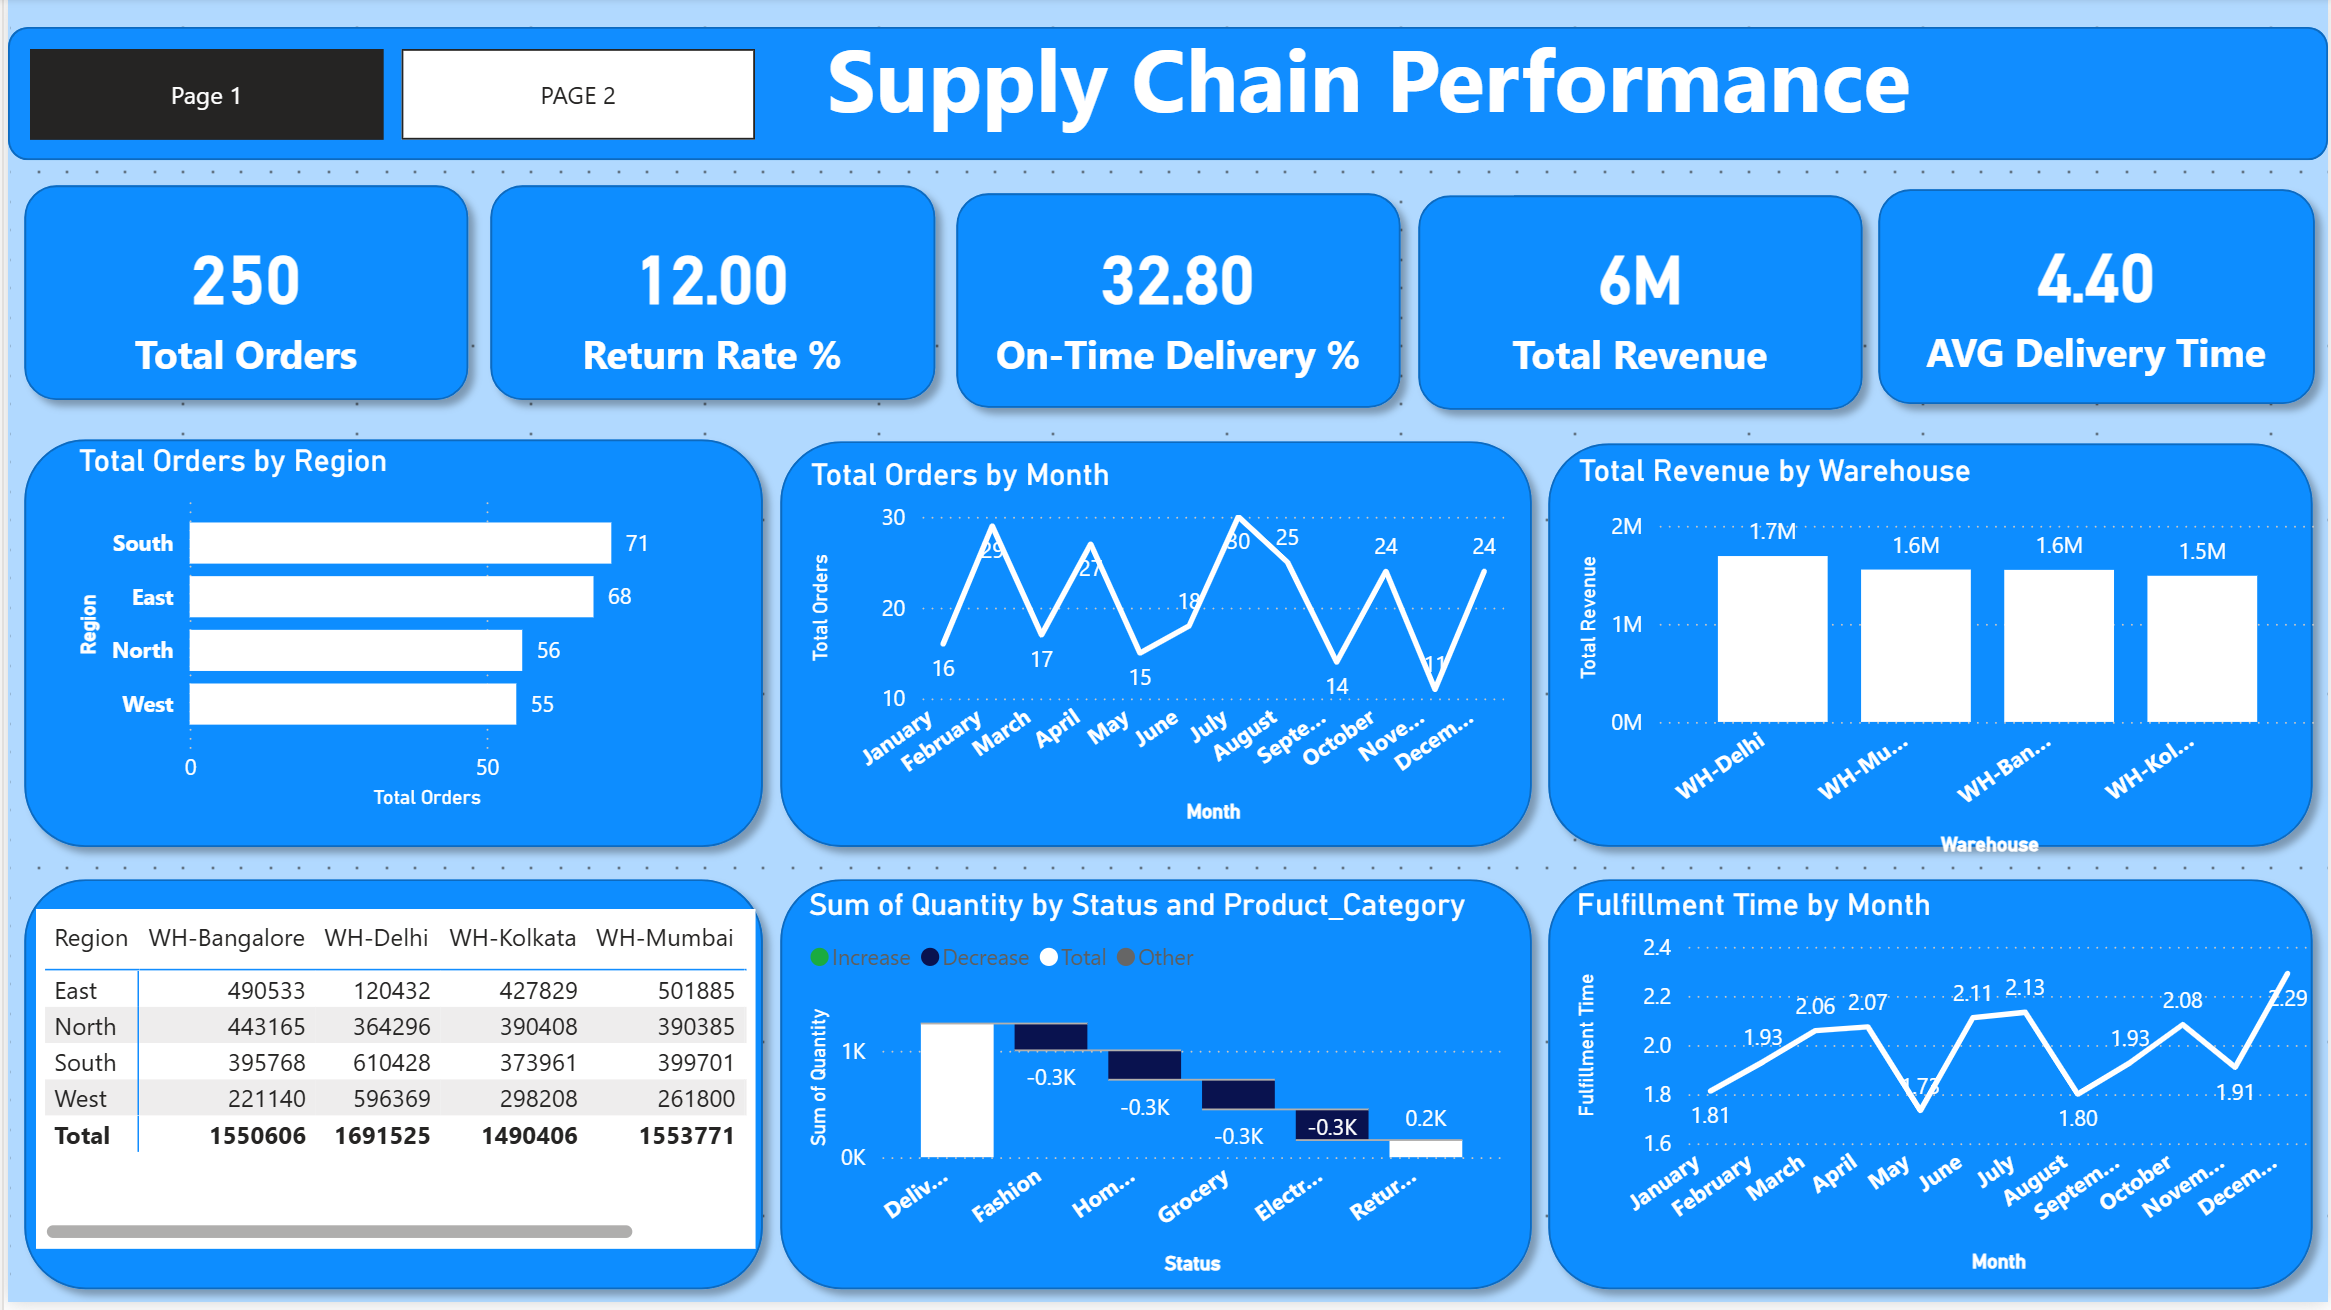

The dashboard page shown, as its layout file describes it:
{"tool":"powerbi","page":{"name":"Page 1","canvas":[1280,720],"ordinal":0},"visuals":[{"type":"shape","box":[840.3,237,439.7,240.6],"z":0},{"type":"shape","box":[257.1,94.7,263.5,136.5],"z":1000},{"type":"shape","box":[0,94.7,262.9,136.5],"z":2000},{"type":"shape","box":[0,477.6,425.5,244.1],"z":3000},{"type":"shape","box":[417.2,235.9,432.6,241.8],"z":4000},{"type":"shape","box":[0,234.7,425.5,243],"z":5000},{"type":"shape","box":[0,16.6,1280,73.5],"z":6000},{"type":"card","fields":{"Values":["SupplyChain_Data.Total Orders"]},"box":[20.1,112.6,222.8,109],"z":7000},{"type":"card","fields":{"Values":["SupplyChain_Data.Total Revenue"]},"box":[540.4,115,222.8,109],"z":8000},{"type":"card","fields":{"Values":["SupplyChain_Data.On-Time Delivery %"]},"box":[512,118.5,280.9,97.2],"z":9000},{"type":"card","fields":{"Values":["SupplyChain_Data.Return Rate %"]},"box":[278.5,112.6,220.4,109],"z":10000},{"type":"clusteredBarChart","fields":{"Y":["SupplyChain_Data.Total Orders"],"Category":["SupplyChain_Data.Region"]},"box":[34.4,246.5,340.1,206.2],"z":11000},{"type":"lineChart","fields":{"Category":["SupplyChain_Data.Delivery_Date.Variation.Date Hierarchy.Month","SupplyChain_Data.Delivery_Date.Variation.Date Hierarchy.Day"],"Y":["SupplyChain_Data.Total Orders"]},"box":[438.5,253.6,392.3,206.2],"z":12000},{"type":"columnChart","fields":{"Category":["SupplyChain_Data.Warehouse"],"Y":["SupplyChain_Data.Total Revenue"]},"box":[861.6,251.3,418.4,226.4],"z":13000},{"type":"pivotTable","fields":{"Rows":["SupplyChain_Data.Region"],"Values":["Sum(SupplyChain_Data.Revenue)"],"Columns":["SupplyChain_Data.Warehouse"]},"box":[15.4,503.7,397,187.3],"z":14000},{"type":"textbox","box":[425,6.2,665,83.8],"z":15000},{"type":"shape","box":[840.3,477.6,439.7,244.1],"z":16000},{"type":"shape","box":[417.2,477.6,432.6,244.1],"z":17000},{"type":"shape","box":[513.8,99,263.1,136.3],"z":18000},{"type":"card","fields":{"Values":["SupplyChain_Data.On-Time Delivery %"]},"box":[535.7,112.6,220.4,109],"z":19000},{"type":"shape","box":[769.2,100.7,263.1,136.3],"z":20000},{"type":"card","fields":{"Values":["SupplyChain_Data.Total Revenue"]},"box":[790.5,112.6,220.4,109],"z":21000},{"type":"waterfallChart","fields":{"Breakdown":["SupplyChain_Data.Product_Category"],"Category":["SupplyChain_Data.Status"],"Y":["Sum(SupplyChain_Data.Quantity)"]},"box":[437.3,490.7,392.3,218.1],"z":22000},{"type":"lineChart","fields":{"Y":["SupplyChain_Data.Fulfillment Time"],"Category":["SupplyChain_Data.Delivery_Date.Variation.Date Hierarchy.Month","SupplyChain_Data.Delivery_Date.Variation.Date Hierarchy.Day"]},"box":[861.2,491.3,413.6,217.4],"z":23000},{"type":"shape","box":[1022.4,97.6,258.8,136.5],"z":24000},{"type":"card","fields":{"Values":["SupplyChain_Data.AVG Delivery Time"]},"box":[1041.2,111.2,220.6,109.4],"z":25000},{"type":"pageNavigator","box":[12.5,28.8,400,50],"z":26000}]}

Visuals, with their boxes in screenshot pixels (x1, y1, x2, y2), scaled from the page's 1280x720 canvas onto the 2331x1310 screenshot:
shape: 1530, 431, 2330, 869
shape: 468, 172, 948, 421
shape: 0, 172, 479, 421
shape: 0, 869, 775, 1309
shape: 760, 429, 1548, 869
shape: 0, 427, 775, 869
shape: 0, 30, 2330, 164
card - SupplyChain_Data.Total Orders: 37, 205, 442, 403
card - SupplyChain_Data.Total Revenue: 984, 209, 1390, 408
card - SupplyChain_Data.On-Time Delivery %: 932, 216, 1444, 392
card - SupplyChain_Data.Return Rate %: 507, 205, 909, 403
clusteredBarChart - SupplyChain_Data.Total Orders x SupplyChain_Data.Region: 63, 448, 682, 824
lineChart - SupplyChain_Data.Delivery_Date.Variation.Date Hierarchy.Month x SupplyChain_Data.Delivery_Date.Variation.Date Hierarchy.Day: 799, 461, 1513, 837
columnChart - SupplyChain_Data.Warehouse x SupplyChain_Data.Total Revenue: 1569, 457, 2330, 869
pivotTable - SupplyChain_Data.Region x Sum(SupplyChain_Data.Revenue): 28, 916, 751, 1257
textbox: 774, 11, 1985, 164
shape: 1530, 869, 2330, 1309
shape: 760, 869, 1548, 1309
shape: 936, 180, 1415, 428
card - SupplyChain_Data.On-Time Delivery %: 976, 205, 1377, 403
shape: 1401, 183, 1880, 431
card - SupplyChain_Data.Total Revenue: 1440, 205, 1841, 403
waterfallChart - SupplyChain_Data.Product_Category x SupplyChain_Data.Status: 796, 893, 1511, 1290
lineChart - SupplyChain_Data.Fulfillment Time x SupplyChain_Data.Delivery_Date.Variation.Date Hierarchy.Month: 1568, 894, 2322, 1289
shape: 1862, 178, 2330, 426
card - SupplyChain_Data.AVG Delivery Time: 1896, 202, 2298, 401
pageNavigator: 23, 52, 751, 143
